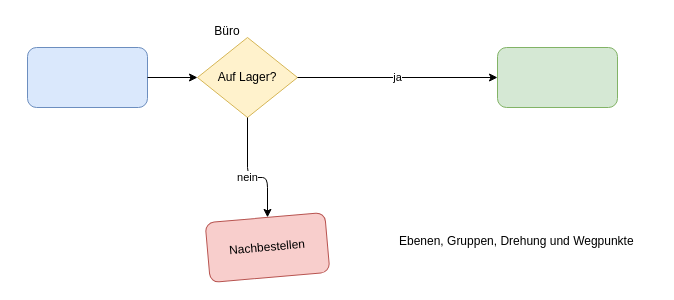
The diagram is 674 pixels wide and 300 high, and some of its shapes have lost their labels. Here are the shapes that lost their labels. From the top down, the centre of each, then its label:
At pixel 87 77: "Bestellung kommt".
At pixel 557 77: "Versenden".
